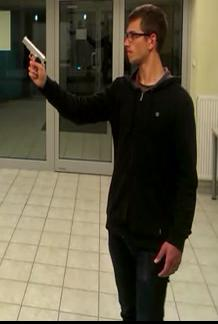pistol: (21, 35, 47, 82)
